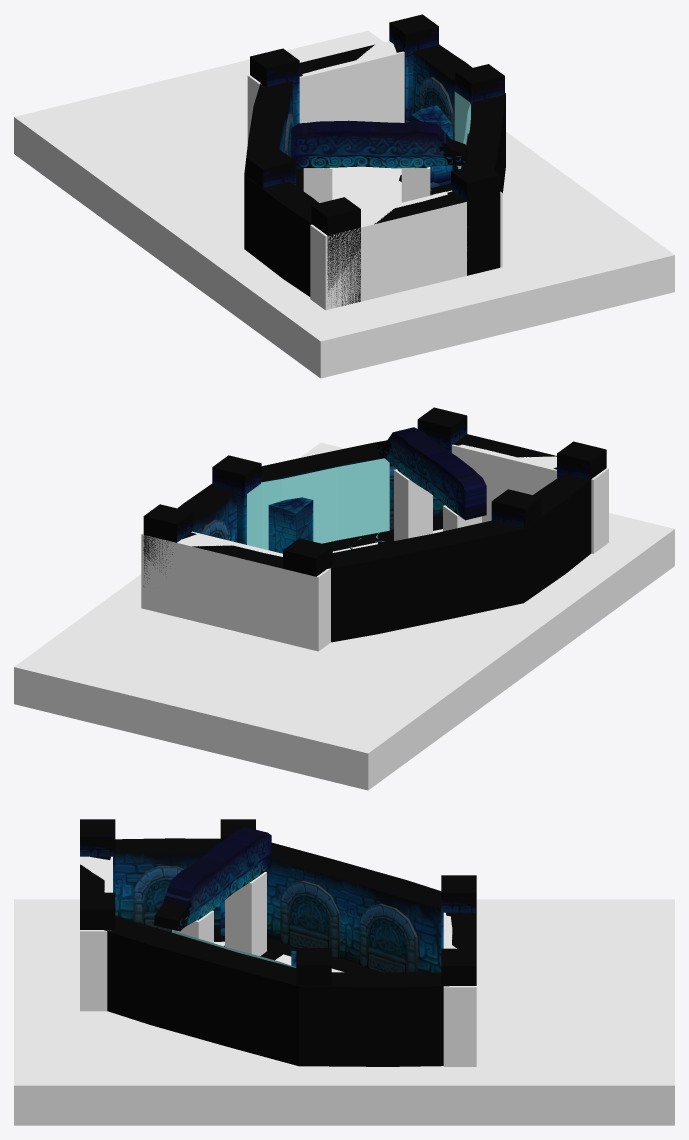
The model's file is Dungeon_051_Road_003.fbx.
3 views of the same model, one above another, from view 1: azimuth 30°, elevation 25°; view 2: azimuth 150°, elevation 25°; view 3: azimuth 270°, elevation 25° (orthographic). The views are drawn at different scales.
Visible parts, largest first — view 1: Cube (×2), DoorWay_NavMask (1) (×2), Dun_051_Road_003_Pillar, Dun_051_Road_003_Wall, Dun_051_Obj03_Gate, Dun_051_Door_002 (×2), Dun_051_Road_003_Wallobject, Dun_051_Obj01_Pillar, Cube (2), Dun_051_Road_003_Terikaeshi; view 2: Cube, Dun_051_Road_003_Wall, DoorWay_NavMask (1) (×2), Dun_051_Road_003_Pillar, Dun_051_Road_003_Terikaeshi, Dun_051_Obj03_Gate, Cube (2), Dun_051_Obj01_Pillar, Dun_051_Door_002 (×2), Dun_051_Road_003_shadow, Dun_051_Road_003_Wallobject; view 3: Cube (×2), Dun_051_Road_003_Wall, Dun_051_Road_003_Wallobject, Dun_051_Road_003_Pillar, Dun_051_Obj03_Gate, DoorWay_NavMask (1) (×2), Dun_051_Door_002 (×2), Dun_051_Road_003_shadow, Cube (2).
Boxes of the visible parts, x1,y1,x2,y2 form: Cube (×2): [14, 30, 674, 378]; DoorWay_NavMask (1) (×2): [247, 41, 502, 310]; Dun_051_Road_003_Pillar: [246, 14, 504, 305]; Dun_051_Road_003_Wall: [244, 44, 505, 296]; Dun_051_Obj03_Gate: [291, 120, 466, 168]; Dun_051_Door_002 (×2): [299, 44, 467, 275]; Dun_051_Road_003_Wallobject: [281, 77, 468, 157]; Dun_051_Obj01_Pillar: [409, 105, 453, 188]; Cube (2): [401, 167, 430, 202]; Dun_051_Road_003_Terikaeshi: [454, 91, 470, 169]; Cube: [14, 442, 674, 790]; Dun_051_Road_003_Wall: [177, 440, 591, 642]; DoorWay_NavMask (1) (×2): [141, 444, 608, 651]; Dun_051_Road_003_Pillar: [143, 407, 606, 586]; Dun_051_Road_003_Terikaeshi: [247, 458, 389, 549]; Dun_051_Obj03_Gate: [377, 427, 486, 520]; Cube (2): [394, 469, 432, 540]; Dun_051_Obj01_Pillar: [268, 497, 313, 553]; Dun_051_Door_002 (×2): [182, 434, 556, 568]; Dun_051_Road_003_shadow: [322, 518, 442, 551]; Dun_051_Road_003_Wallobject: [201, 466, 396, 540]; Cube (×2): [14, 872, 674, 1125]; Dun_051_Road_003_Wall: [104, 838, 448, 1066]; Dun_051_Road_003_Wallobject: [133, 866, 417, 972]; Dun_051_Road_003_Pillar: [80, 819, 476, 985]; Dun_051_Obj03_Gate: [154, 827, 271, 931]; DoorWay_NavMask (1) (×2): [80, 856, 476, 1066]; Dun_051_Door_002 (×2): [80, 856, 476, 948]; Dun_051_Road_003_shadow: [214, 932, 382, 972]; Cube (2): [172, 910, 213, 943].
Size of what is drawn, in the model's own units: 10 by 4 by 15.
